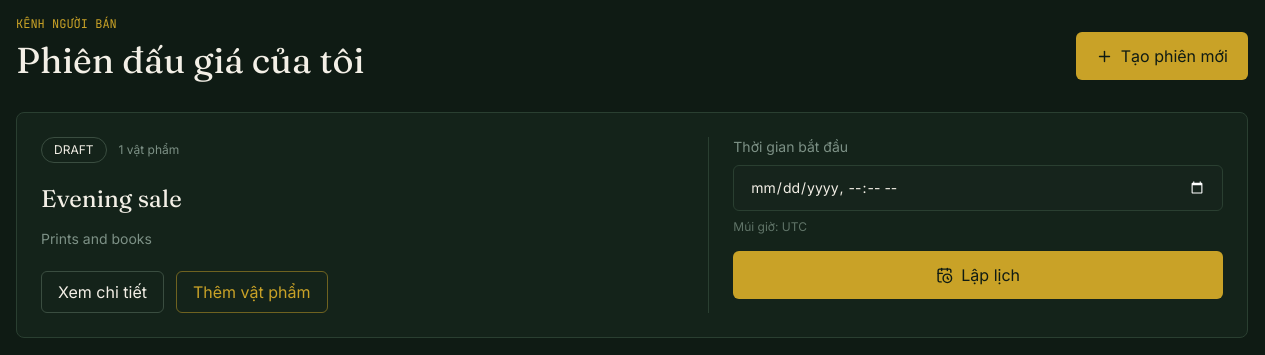
Test case: MyAuctionsPage › lists owned drafts and schedules with a future epoch payload
Expected: the heading "Evening sale" is shown, [41, 184, 182, 213]
Expected: the text "Múi giờ: UTC" is shown, [733, 219, 807, 234]
Type "2027-01-15T08:00" into the field labelled "Thời gian bắt đầu" at (978, 188), box [733, 165, 1223, 211]
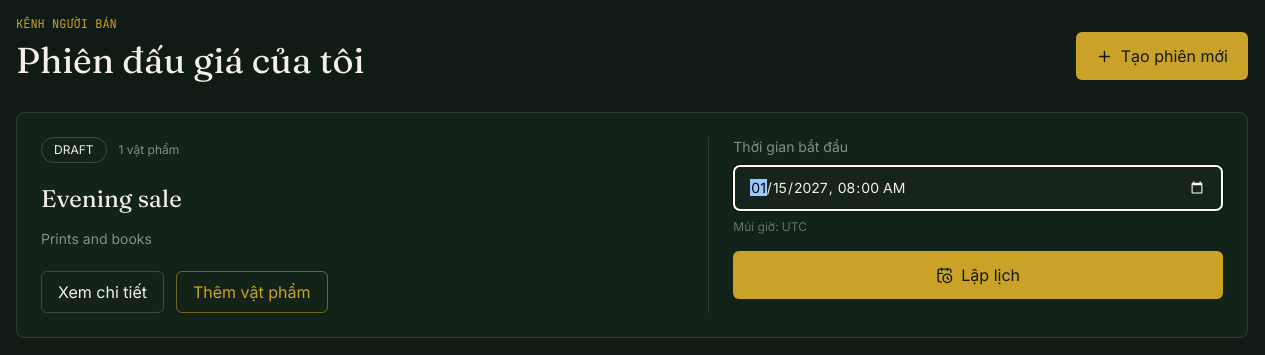
Click the button "Lập lịch" at (978, 275), box [733, 251, 1223, 299]
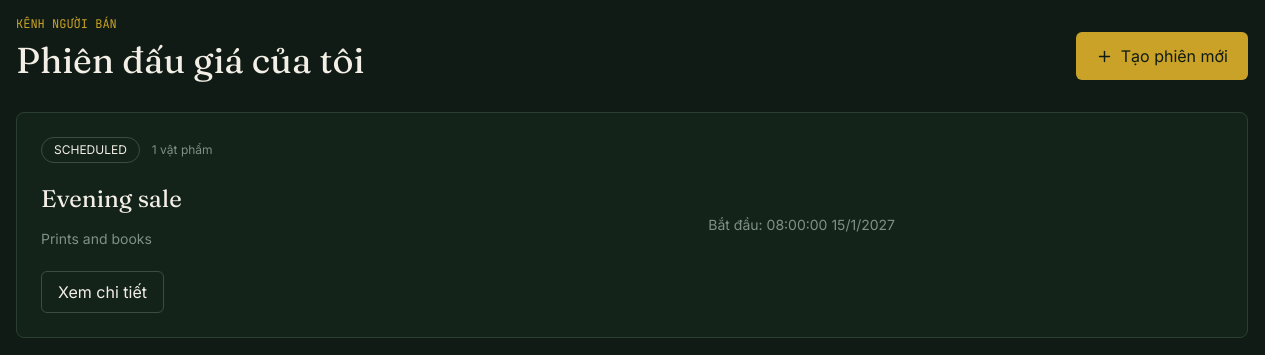
Result: the text "SCHEDULED" is shown at [41, 137, 140, 163]
